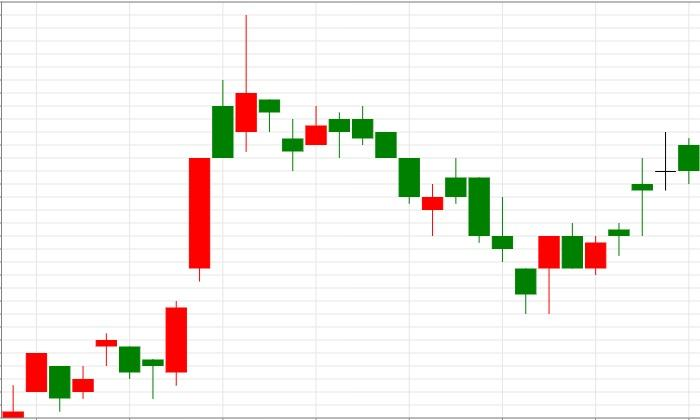shooting_star_fall: (166, 14, 257, 386)
